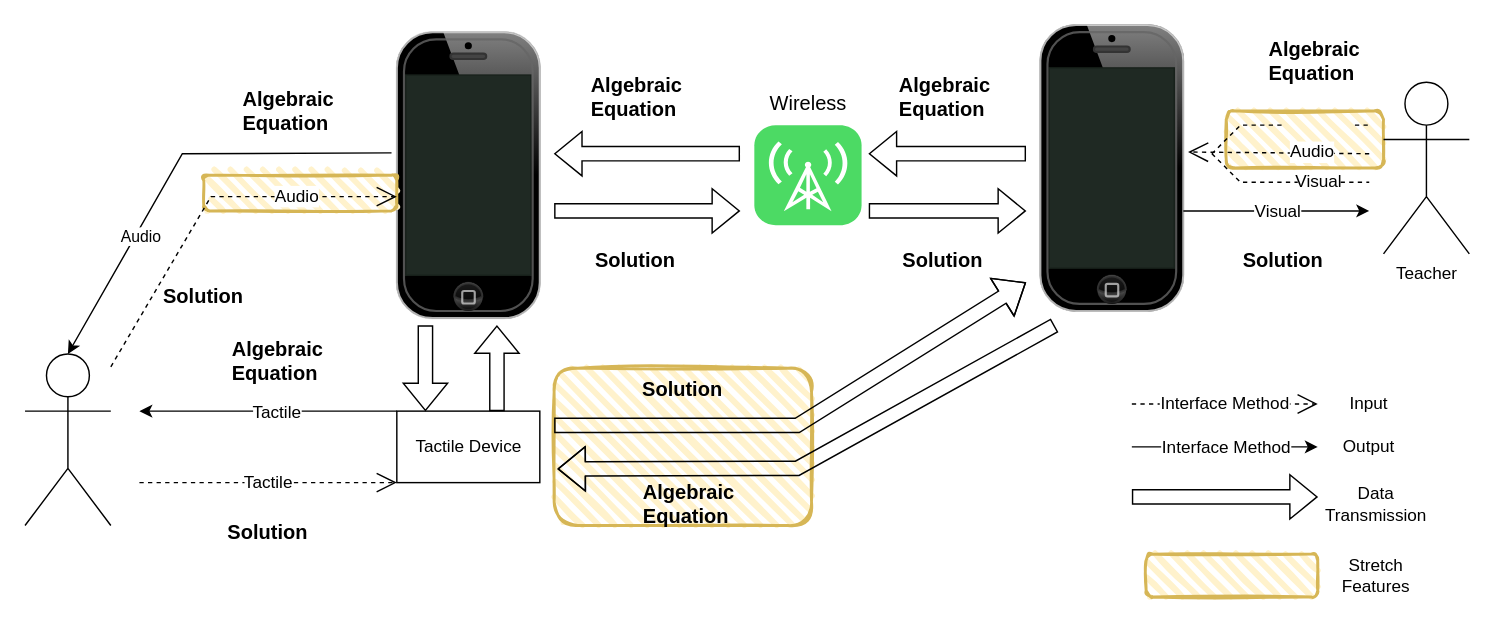
This 1494x623 diagram has some shape labels left out. The centre of each missing label's shape, as x and y in pixels:
Keyboard: point (1304, 139)
Student: point (67, 439)
